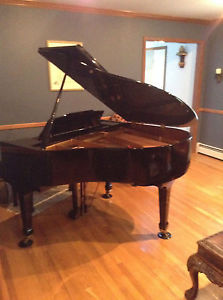GrandPiano: (13, 43, 201, 210)
